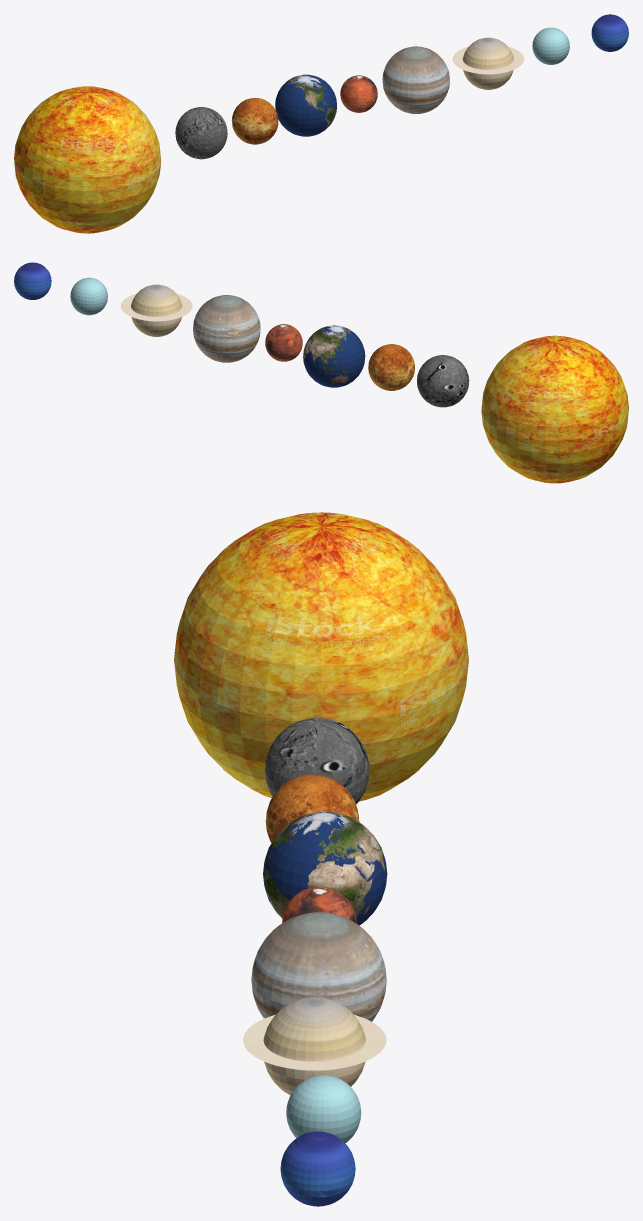
The model's file is tata_surya.glb.
3 renders of one model, top to bottom at view 1: azimuth 30°, elevation 25°; view 2: azimuth 150°, elevation 25°; view 3: azimuth 270°, elevation 25°, orthographic. The views are drawn at different scales.
Parts seen in each view (by area): view 1: Sphere, Sphere.006, Sphere.002, Sphere.004, Sphere.001, Sphere.003, Sphere.008, Sphere.005, Sphere.009; view 2: Sphere, Sphere.006, Sphere.002, Sphere.004, Sphere.001, Sphere.003, Sphere.008, Sphere.005, Sphere.009; view 3: Sphere, Sphere.006, Sphere.002, Sphere.004, Sphere.001, Sphere.009, Sphere.008, Sphere.003, Sphere.005.
Boxes of the visible parts, x1,y1,x2,y2 form: Sphere: [14, 86, 160, 233]; Sphere.006: [382, 46, 449, 113]; Sphere.002: [275, 74, 336, 136]; Sphere.004: [452, 37, 524, 89]; Sphere.001: [175, 107, 227, 159]; Sphere.003: [231, 98, 278, 144]; Sphere.008: [532, 27, 569, 64]; Sphere.005: [340, 75, 377, 112]; Sphere.009: [591, 14, 628, 51]; Sphere: [481, 335, 628, 483]; Sphere.006: [193, 295, 260, 362]; Sphere.002: [303, 325, 365, 387]; Sphere.004: [120, 284, 192, 336]; Sphere.001: [417, 355, 469, 407]; Sphere.003: [368, 344, 414, 390]; Sphere.008: [70, 277, 107, 315]; Sphere.005: [265, 324, 302, 361]; Sphere.009: [14, 262, 51, 299]; Sphere: [174, 512, 468, 801]; Sphere.006: [251, 912, 386, 1021]; Sphere.002: [263, 812, 387, 925]; Sphere.004: [243, 997, 386, 1095]; Sphere.001: [265, 717, 369, 804]; Sphere.009: [280, 1131, 355, 1206]; Sphere.008: [286, 1075, 361, 1143]; Sphere.003: [265, 774, 359, 842]; Sphere.005: [282, 886, 356, 923].
Bounding box in the file's own units: 1.21 × 0.256 × 0.256.
9 materials, 9 textured.
